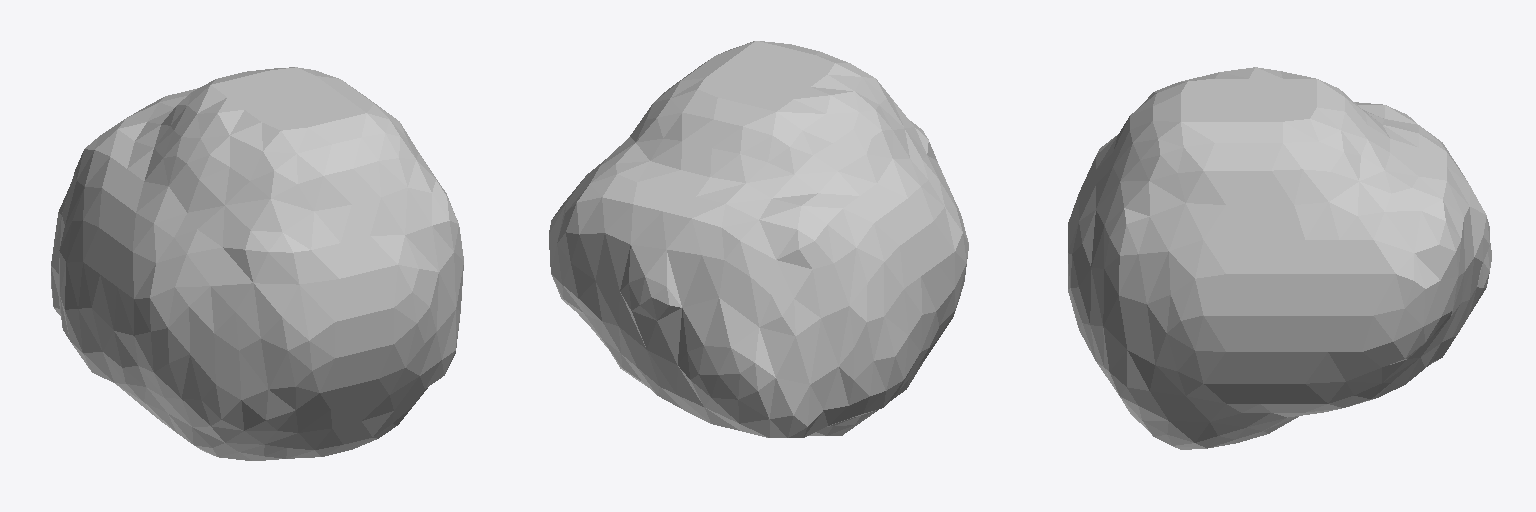
File: LowTumor.obj
3 views of the same model, side by side, from view 1: azimuth 30°, elevation 25°; view 2: azimuth 150°, elevation 25°; view 3: azimuth 270°, elevation 25° (orthographic).
Parts seen in each view (by area): view 1: Low_tumor; view 2: Low_tumor; view 3: Low_tumor.
Part boxes in pixels (x1,y1,x2,y2): Low_tumor: (51, 67, 463, 460); Low_tumor: (549, 41, 968, 437); Low_tumor: (1068, 67, 1491, 449).
Size of the model in its own units: 15.23 by 15 by 17.58.